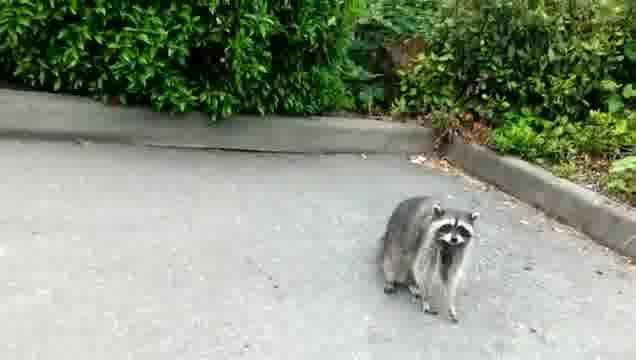raccoon: (371, 191, 482, 330)
